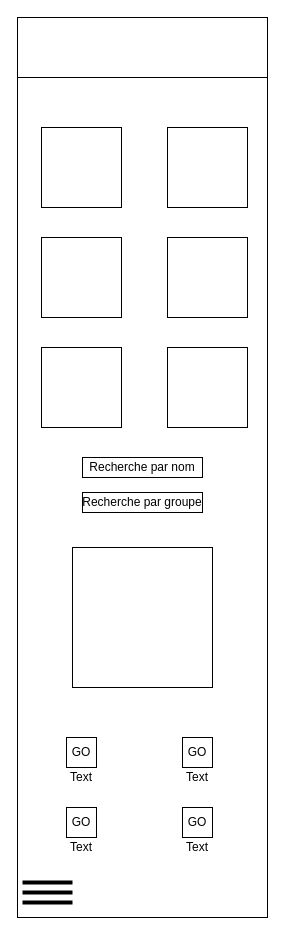
Some shapes in this 285 by 935 pixel diagram are drawn without their labels. The shapes that lost their labels are listed below. From the top down, each one's centre as x and y in pixels, then its label:
At (142,47): "MY MUSIC".
At (142,617): "Mes recherches récentes".
